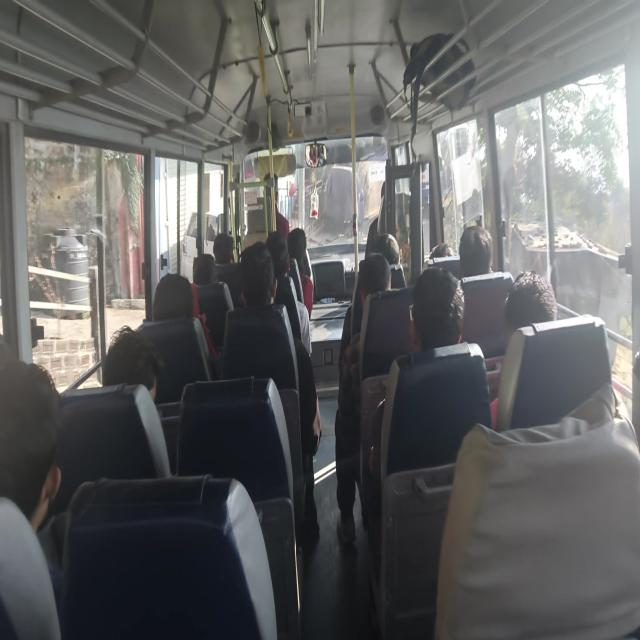person: (434, 384, 639, 638), (363, 265, 492, 549), (221, 240, 321, 540), (0, 358, 64, 638), (334, 251, 392, 544), (488, 269, 558, 427), (101, 324, 173, 475), (338, 252, 392, 371), (152, 272, 219, 362), (265, 230, 312, 356), (102, 324, 164, 404), (409, 265, 465, 351), (502, 270, 558, 346), (286, 226, 314, 319), (458, 224, 492, 276), (373, 232, 400, 265), (192, 252, 218, 285), (274, 188, 289, 238), (212, 232, 235, 264), (429, 242, 455, 258)
